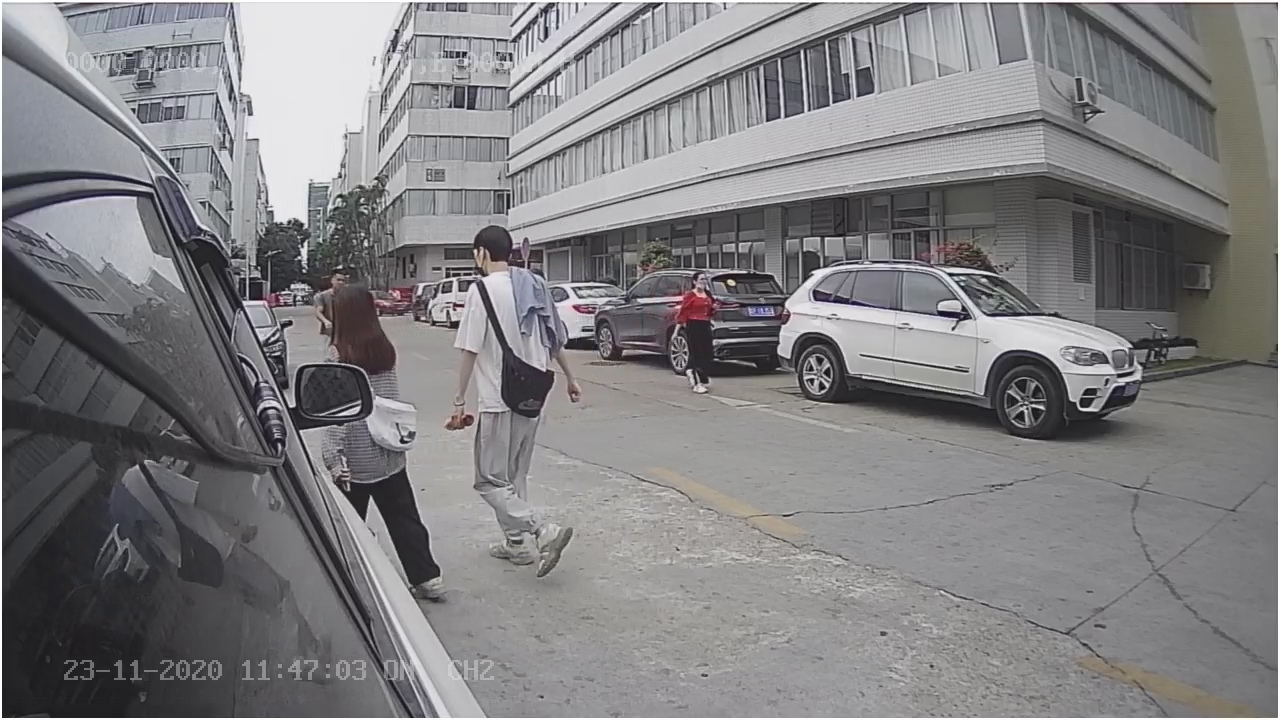person: (451, 223, 580, 570), (663, 256, 730, 395)
